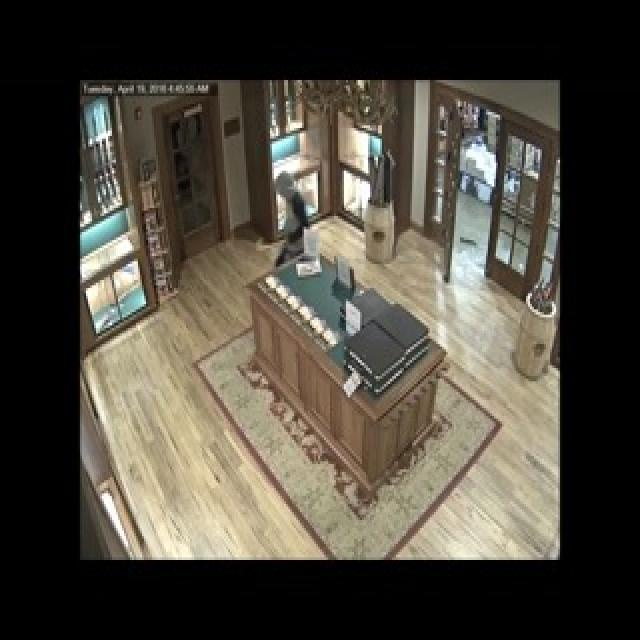thief: (272, 170, 309, 255)
